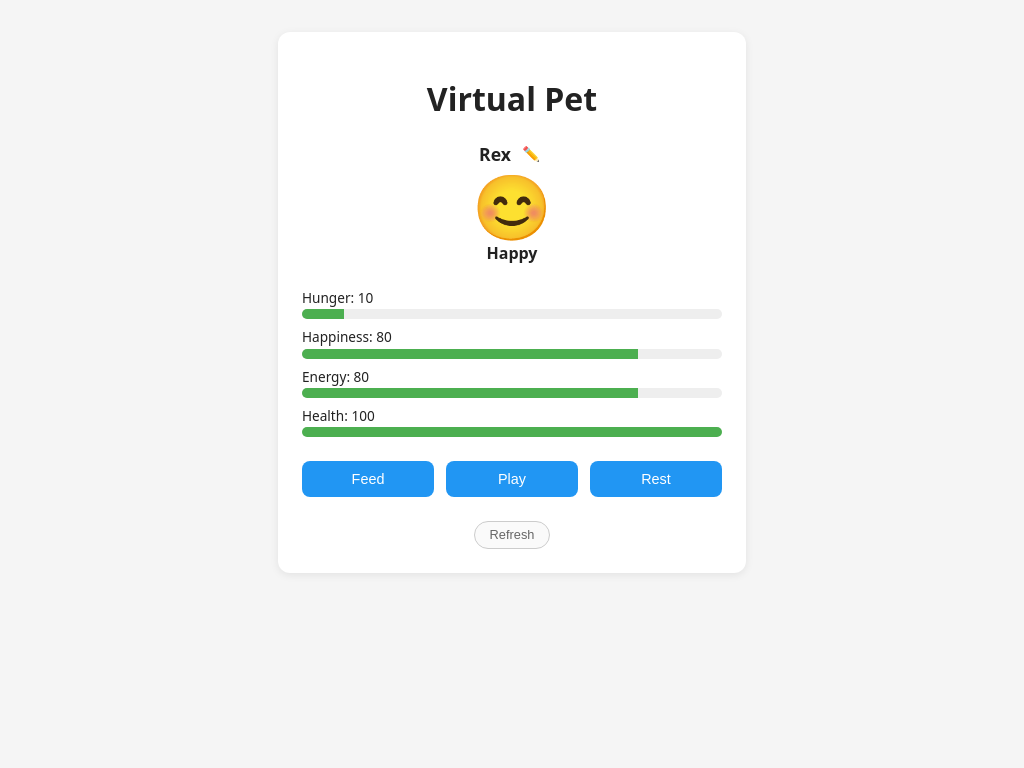
Test: App - rename › cancel leaves the name unchanged
This screenshot has width=1024, height=768.
Click the button with test id "pet-display-rename-button" at (531, 154), box [517, 145, 545, 163]
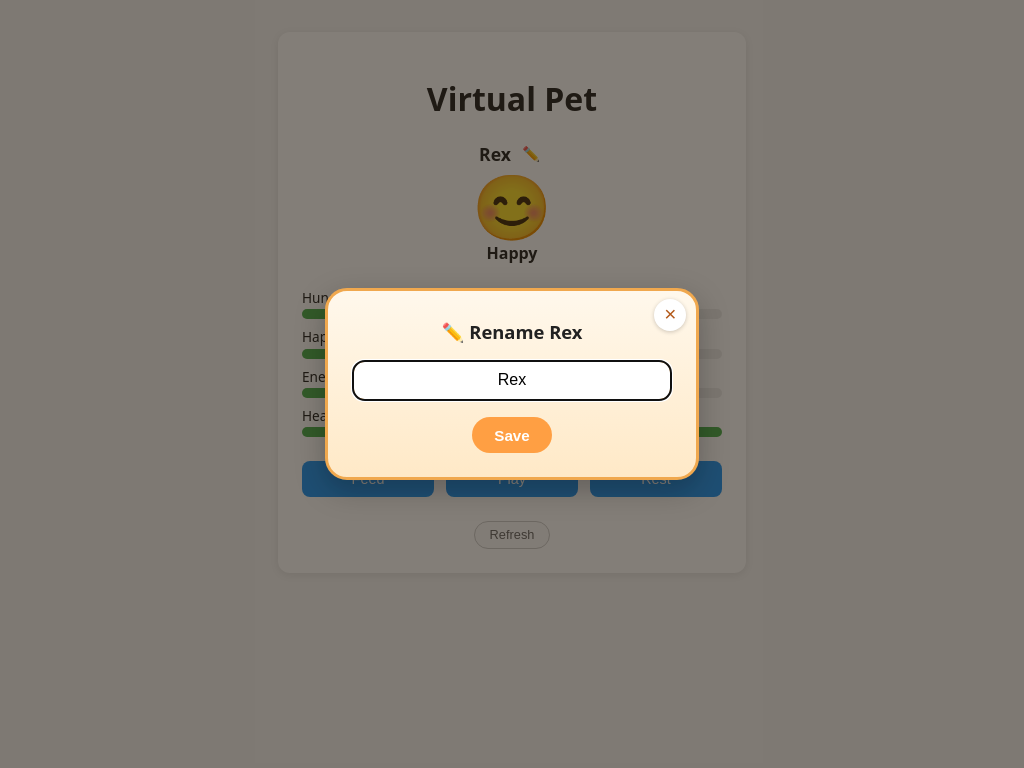
Replace the text in the field with test id "name-dialog-input" with "Ignored" at (512, 380), box [352, 360, 672, 401]
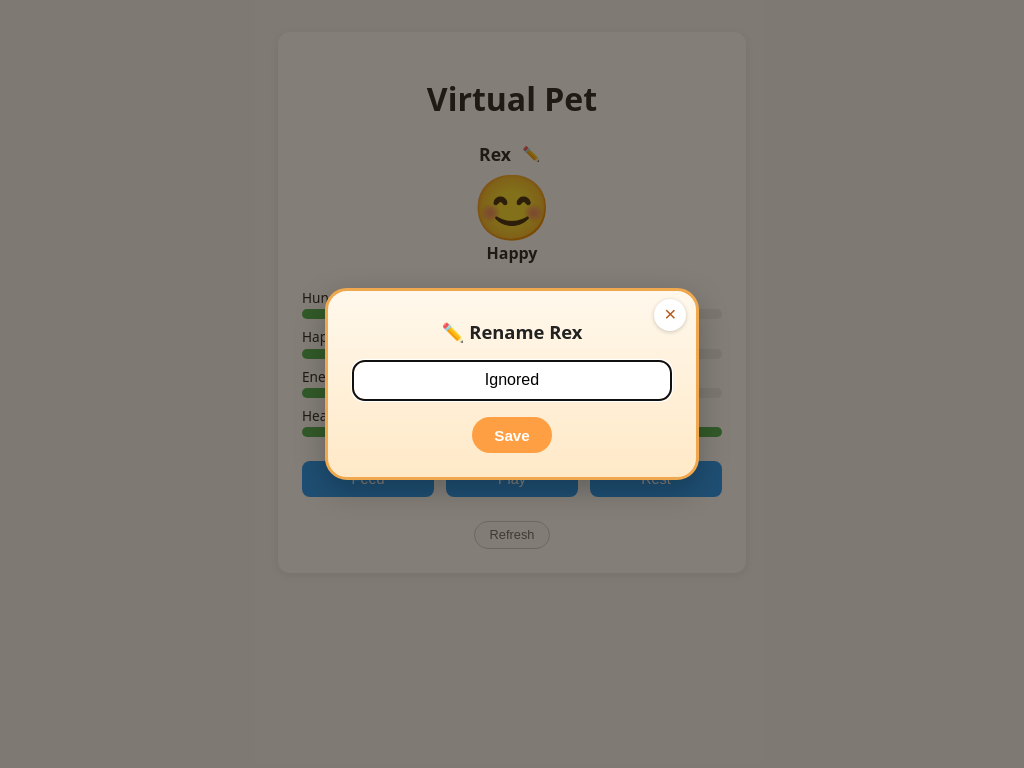
Click the button with test id "name-dialog-close-button" at (670, 315), box [654, 299, 686, 331]
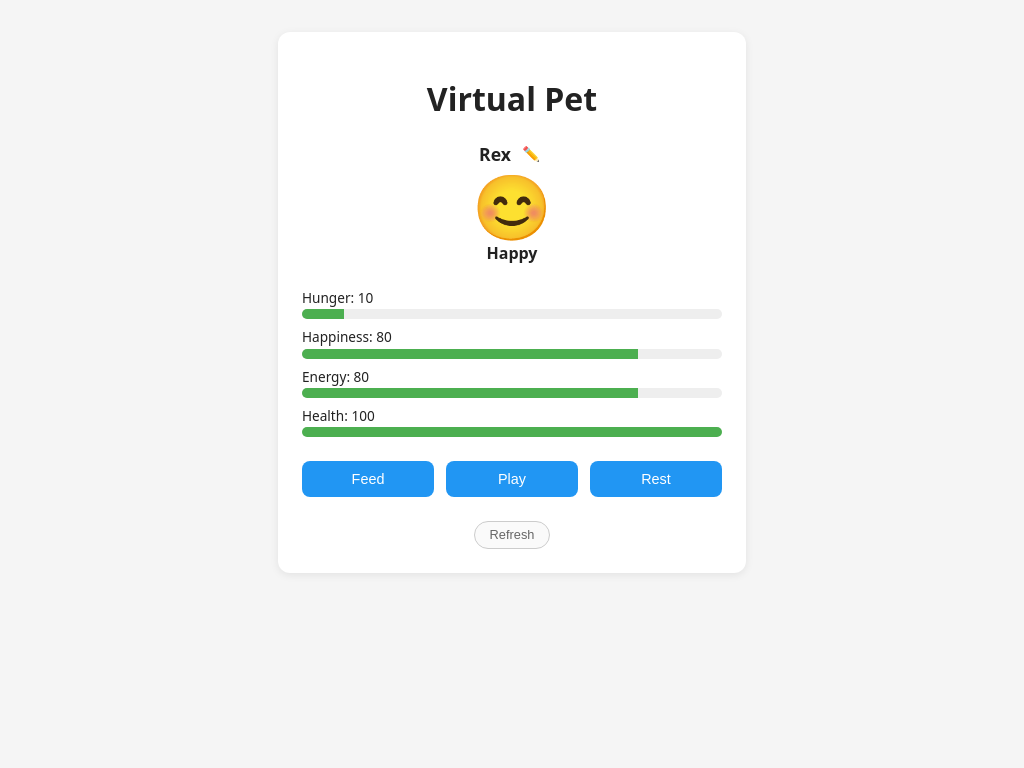
Expected: the text with test id "pet-display-name" reads "Rex", [479, 142, 511, 166]
Result: the dialog with test id "name-dialog" is gone
